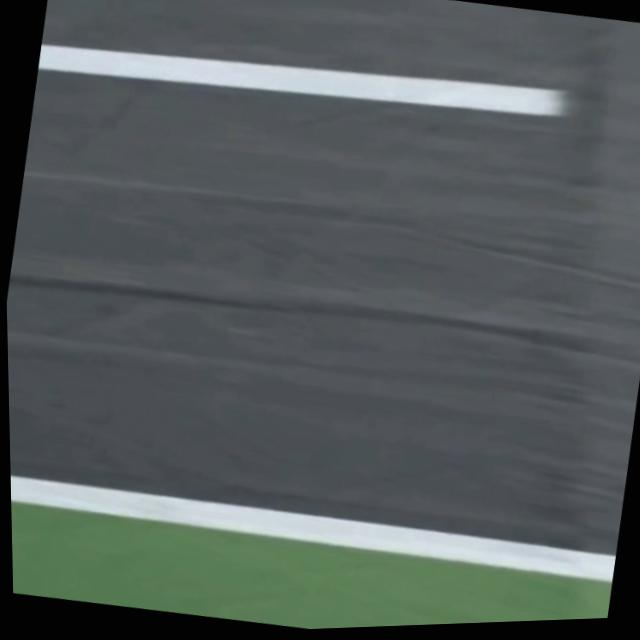center: (37, 43, 566, 115)
right: (11, 476, 616, 581)
